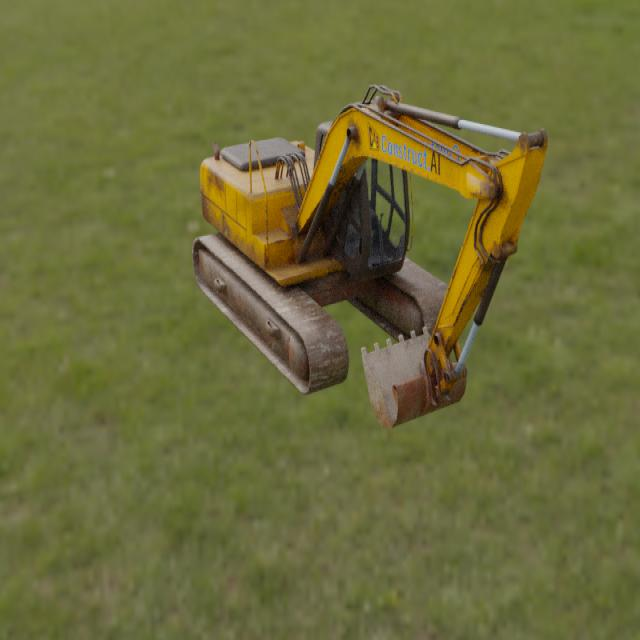excavator: (191, 84, 548, 429)
